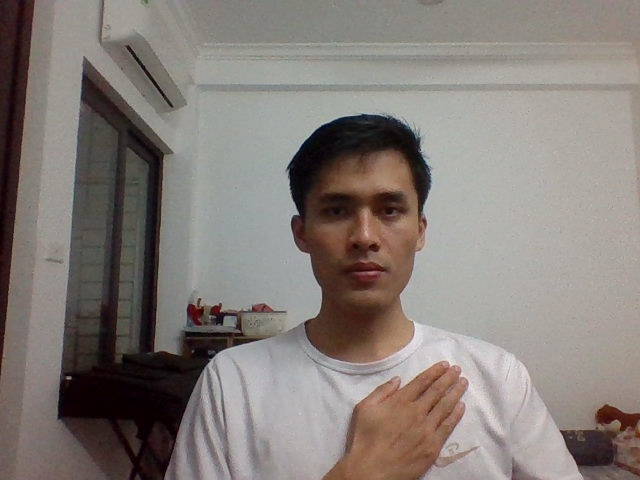Please: (346, 358, 471, 480)
